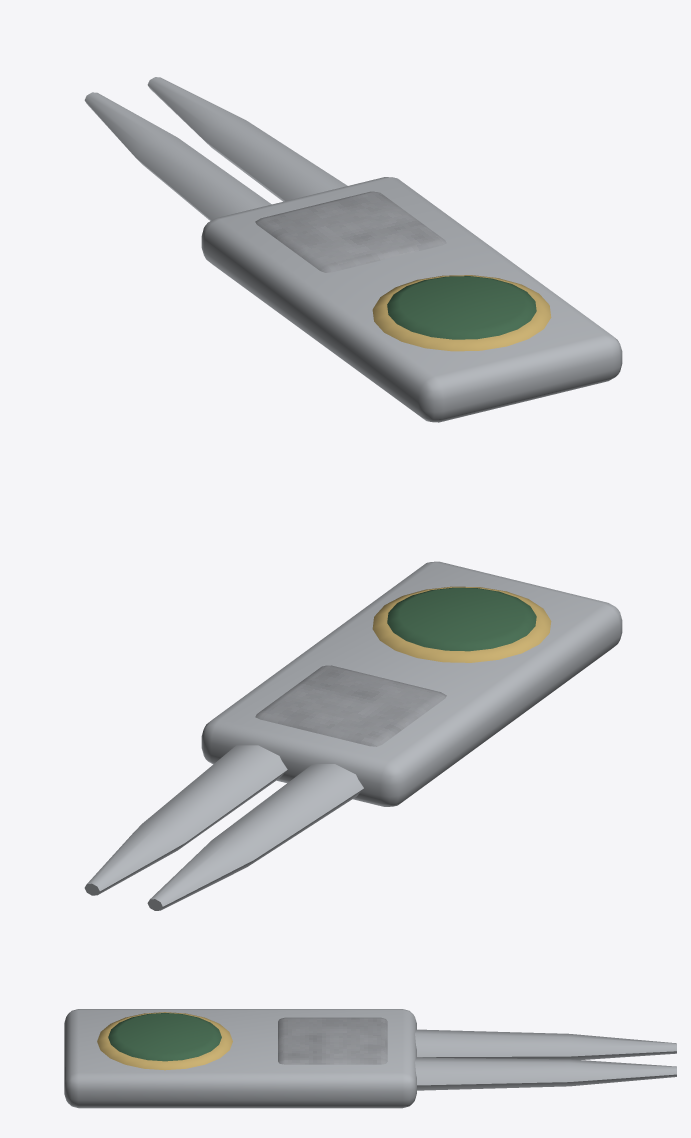
File: pf_divot_classic.glb
3 renders of one model, top to bottom at view 1: azimuth 30°, elevation 25°; view 2: azimuth 150°, elevation 25°; view 3: azimuth 270°, elevation 25°, orthographic. The views are drawn at different scales.
Parts seen in each view (by area): view 1: pf_divot_classic_body; view 2: pf_divot_classic_body; view 3: pf_divot_classic_body.
Part boxes in pixels (x1,y1,x2,y2): pf_divot_classic_body: [84, 77, 622, 422]; pf_divot_classic_body: [84, 561, 622, 910]; pf_divot_classic_body: [64, 1009, 676, 1108].
Bounding box in the file's own units: 0.024 × 0.008 × 0.079.
Materials: 5 (2 with a texture image).
